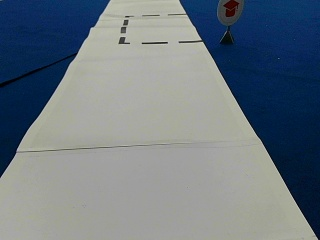school: (216, 1, 244, 25)
